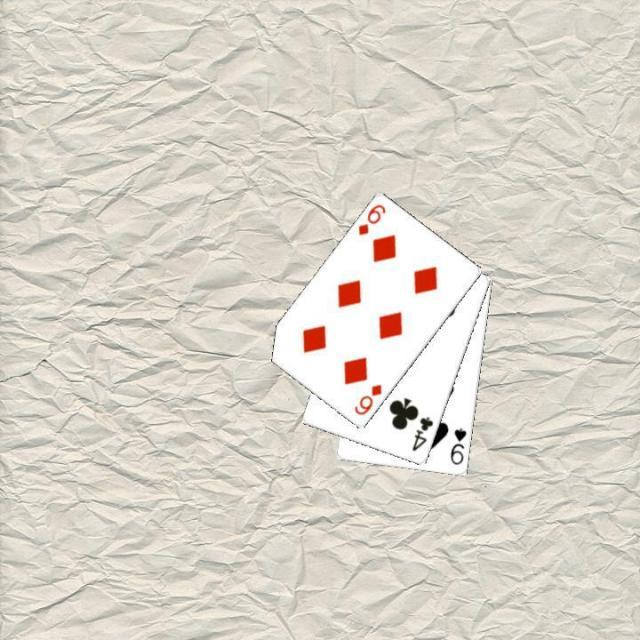4C: (408, 414, 434, 454)
6D: (350, 380, 384, 418), (355, 201, 388, 237)
9S: (447, 424, 469, 466)
